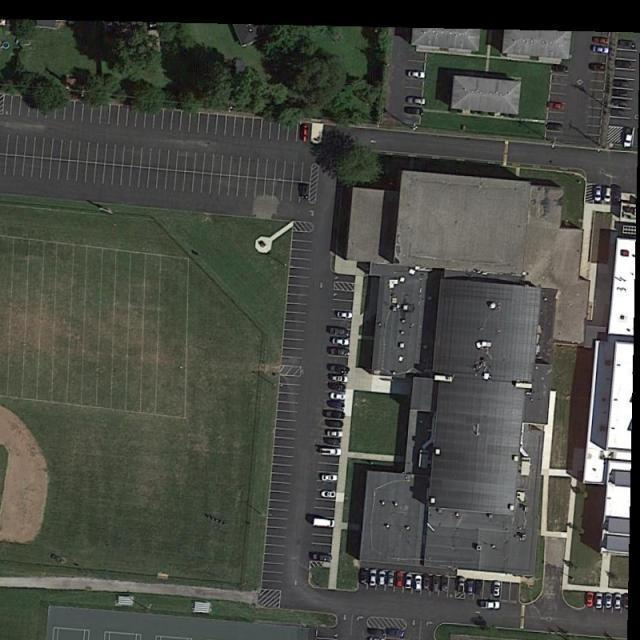vehicle: (384, 626, 406, 638), (328, 346, 351, 357), (325, 399, 346, 410), (326, 382, 346, 393), (310, 554, 334, 563), (327, 364, 348, 374), (323, 410, 346, 419), (298, 183, 310, 200), (330, 326, 350, 336), (479, 600, 501, 609), (323, 437, 342, 447), (551, 63, 570, 73), (314, 519, 335, 528), (321, 447, 342, 456), (321, 489, 338, 500), (324, 420, 344, 429), (329, 391, 347, 401), (406, 70, 426, 79), (406, 95, 426, 104), (612, 185, 622, 203), (331, 337, 350, 346), (492, 580, 502, 597), (613, 593, 622, 611), (301, 124, 310, 142), (588, 62, 606, 71), (614, 60, 632, 69), (603, 186, 613, 202), (590, 46, 610, 54), (395, 571, 404, 588), (594, 593, 603, 610), (612, 78, 629, 87), (611, 99, 628, 108), (404, 106, 423, 114), (623, 134, 633, 149), (369, 569, 377, 587), (604, 594, 613, 610), (547, 102, 565, 110), (545, 122, 563, 130), (591, 36, 609, 44), (326, 430, 343, 438), (387, 571, 395, 588), (405, 573, 413, 590), (610, 108, 625, 117), (322, 474, 338, 482), (466, 579, 474, 595), (594, 186, 602, 202), (586, 592, 594, 608), (415, 574, 422, 592), (433, 576, 440, 594), (441, 576, 448, 594), (369, 629, 384, 637), (359, 570, 367, 585), (476, 580, 484, 595), (332, 375, 348, 382), (337, 311, 353, 318), (618, 40, 634, 47), (611, 89, 627, 96), (379, 571, 386, 586), (458, 578, 465, 593), (423, 575, 430, 589), (368, 637, 386, 640)
